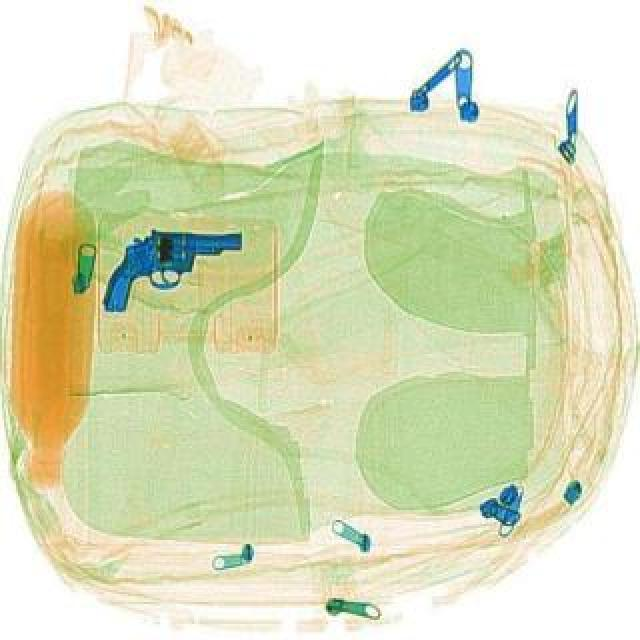gun: (104, 226, 240, 316)
